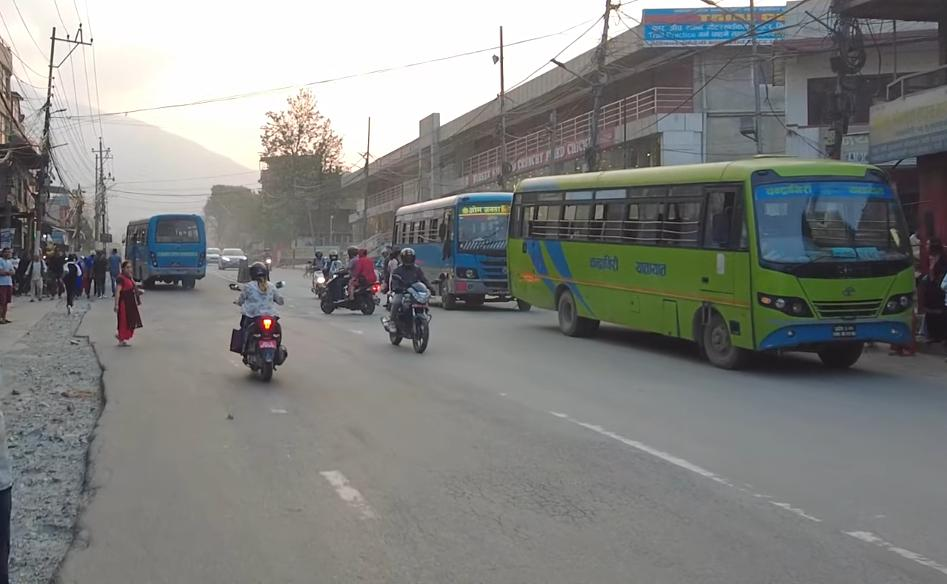bus: (502, 158, 937, 385), (391, 189, 533, 317), (117, 208, 211, 293)
